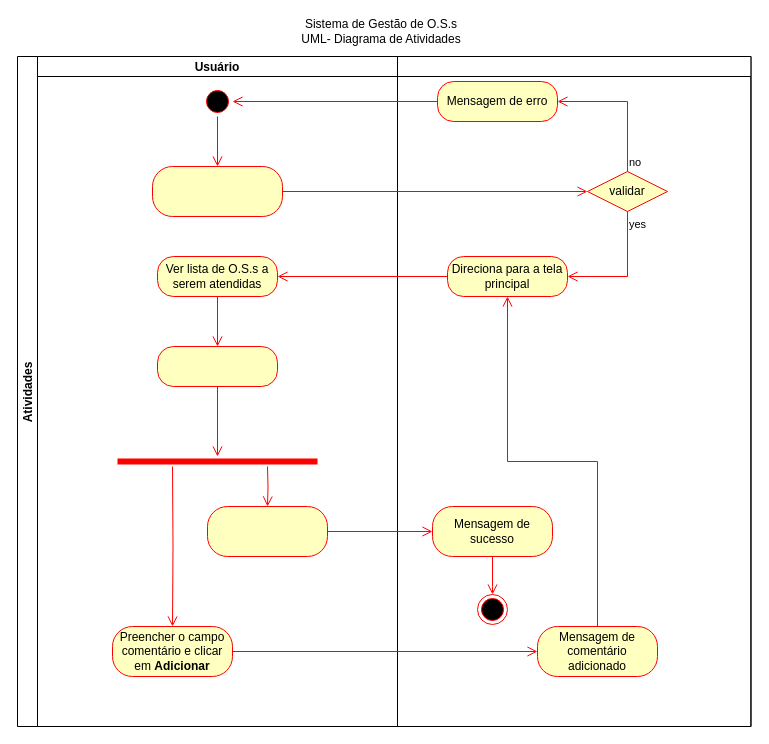
Some shapes in this 769 by 744 pixel diagram are drawn without their labels. The box of each missing label's shape, as (x1, y1, x2, y2) in pixels:
Clicar no botão Concluír: (206, 506, 328, 556)
Escolher OS e Clicar em Detalhes: (156, 346, 278, 386)
Preencher dados de login (matrícula e PIN): (152, 166, 282, 216)
Sistema: (396, 56, 751, 726)
